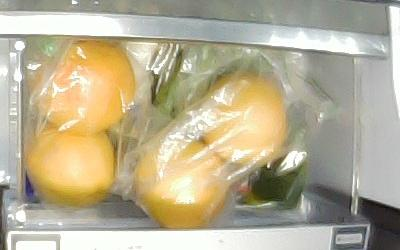grapefruit_vinyl: (35, 41, 133, 133), (133, 138, 228, 228), (199, 71, 286, 163), (26, 123, 114, 207)
